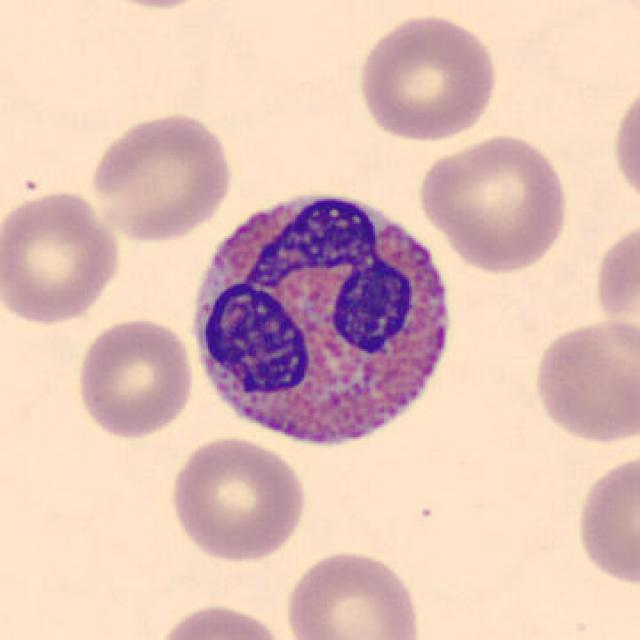Eosinophil: (178, 171, 466, 465)
RBC: (414, 131, 572, 275), (86, 108, 237, 244), (352, 9, 501, 144), (166, 434, 310, 564), (0, 185, 124, 328), (71, 314, 197, 441), (528, 314, 638, 448), (281, 546, 427, 640), (572, 449, 638, 589), (590, 221, 640, 366), (151, 599, 290, 640), (608, 76, 640, 217), (78, 0, 224, 12), (597, 0, 640, 28)
